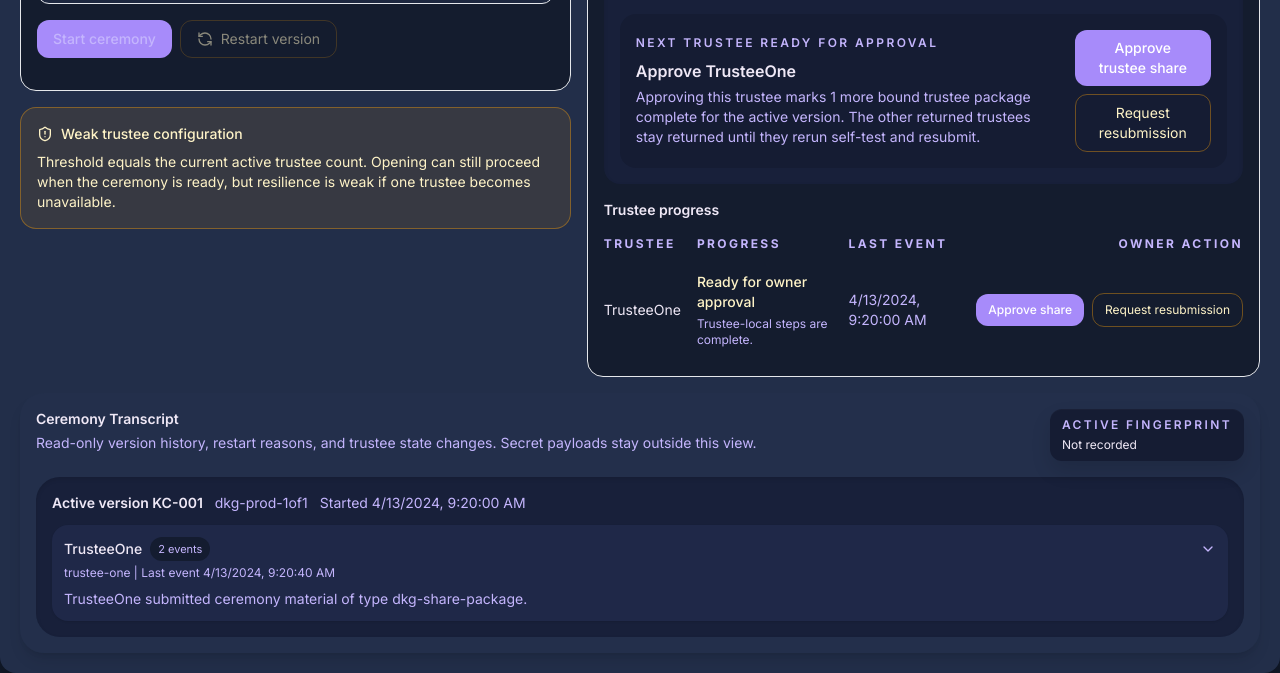
Test: ElectionCeremonyWorkspaceSection › keeps owner transcript groups collapsed by default
(page scrolled)
Expected: the text "TrusteeOne published a ceremony transport key." is not shown
Click the button with test id "ceremony-active-group-toggle-trustee-one" at (103, 548), box [64,537,1216,609]
(page scrolled)
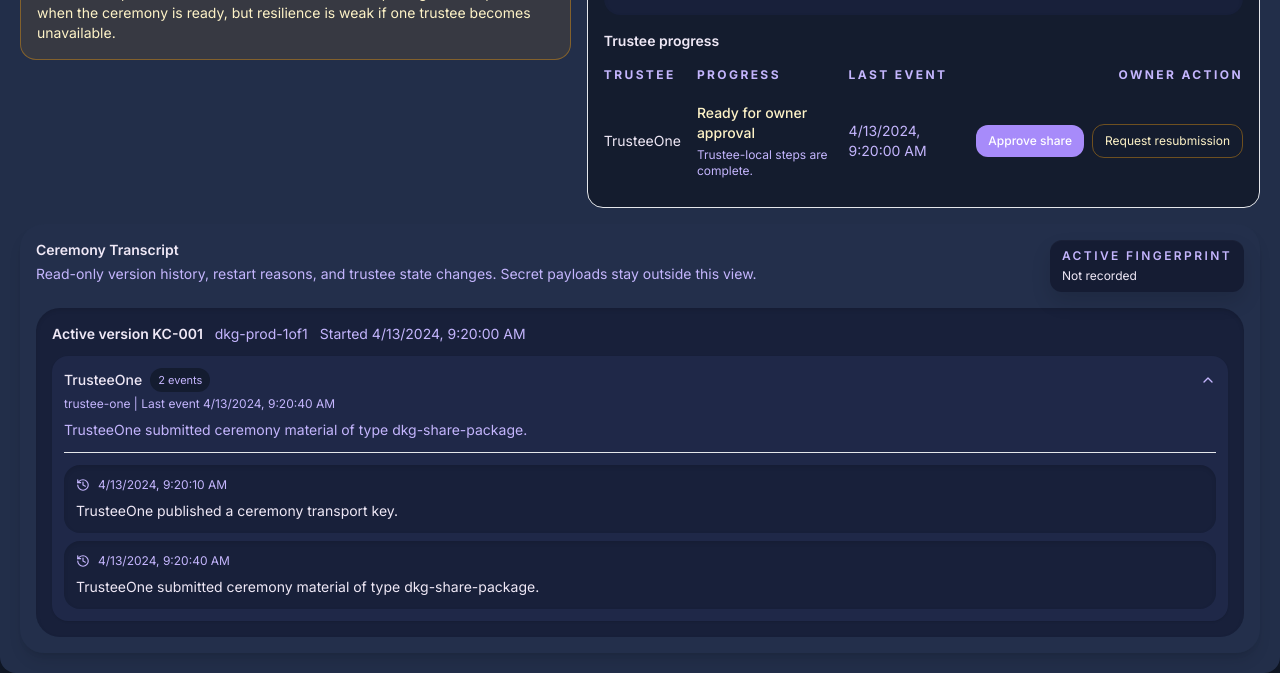
Result: the text "TrusteeOne published a ceremony transport key." is shown at [76,502,398,519]
